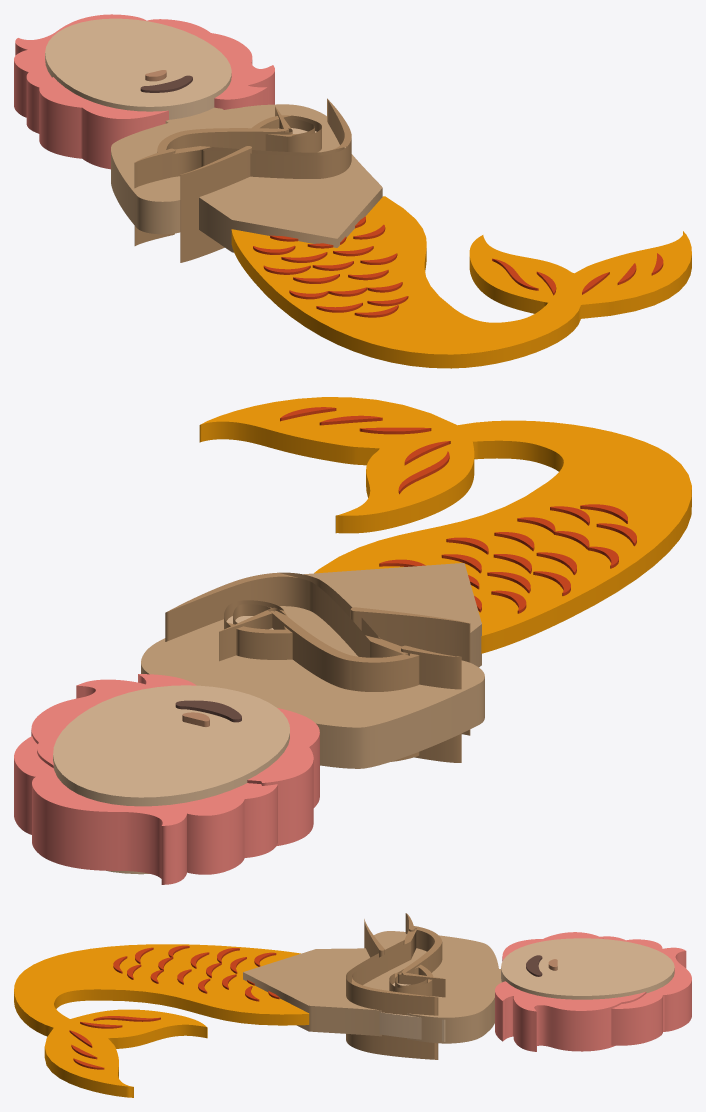
Rendered from emoji_u1f9dc_1f3fc.glb.
The picture shows the model from 3 angles, top to bottom: view 1: azimuth 30°, elevation 25°; view 2: azimuth 150°, elevation 25°; view 3: azimuth 270°, elevation 25°; orthographic projection. The views are drawn at different scales.
Visible parts, largest first — view 1: emoji_u1f9dc_1f3fc; view 2: emoji_u1f9dc_1f3fc; view 3: emoji_u1f9dc_1f3fc.
Part boxes in pixels (<box>): emoji_u1f9dc_1f3fc: <box>14,14,691,368</box>; emoji_u1f9dc_1f3fc: <box>14,397,691,884</box>; emoji_u1f9dc_1f3fc: <box>14,913,691,1097</box>.
Size of the model in its own units: 0.0173 by 0.0038 by 0.0333.
